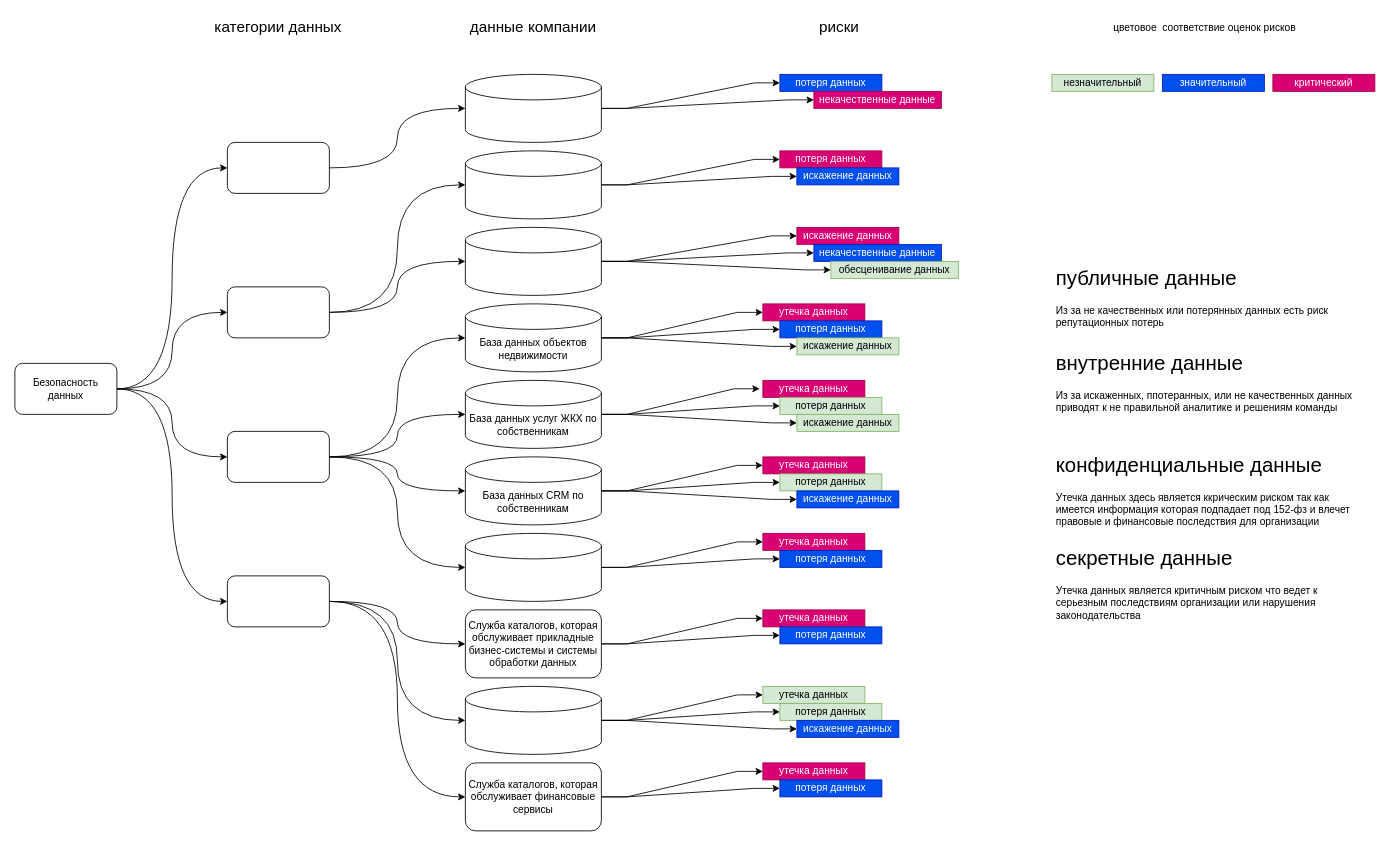
The diagram is 1390 pixels wide and 846 high, and some of its shapes have lost their labels. The centre of each missing label's shape, as x and y in pixels:
База данных для хранения информации об объектах недвижимости и сделкам по ним: the point at 533,184
База данных проведения онлайн-тура: the point at 533,108
База данных сервиса аутентификации покупателей: the point at 533,720
База данных системы CRM: the point at 533,261
внутренние данные: the point at 278,312
конфиденциальные данные: the point at 278,456
публичные данные: the point at 278,167
секретные данные: the point at 278,601
Физическое хранилище данных DWH: the point at 533,567
